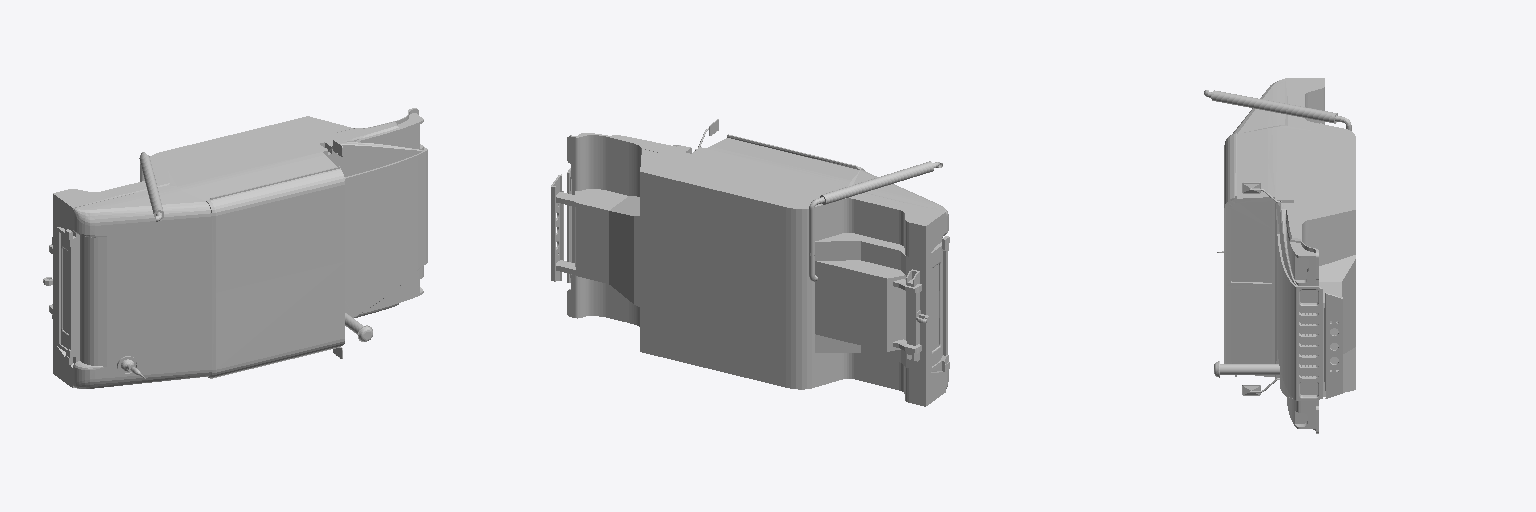
File: hmmwv_chassis_simple.obj
3 views of the same model, side by side, from view 1: azimuth 30°, elevation 25°; view 2: azimuth 150°, elevation 25°; view 3: azimuth 270°, elevation 25° (orthographic).
Parts seen in each view (by area): view 1: body_body.001; view 2: body_body.001; view 3: body_body.001.
Boxes of the visible parts, x1,y1,x2,y2 form: body_body.001: [43, 108, 427, 388]; body_body.001: [551, 119, 949, 406]; body_body.001: [1204, 78, 1355, 433].
Bounding box in the file's own units: 4.67 × 2.56 × 1.65.